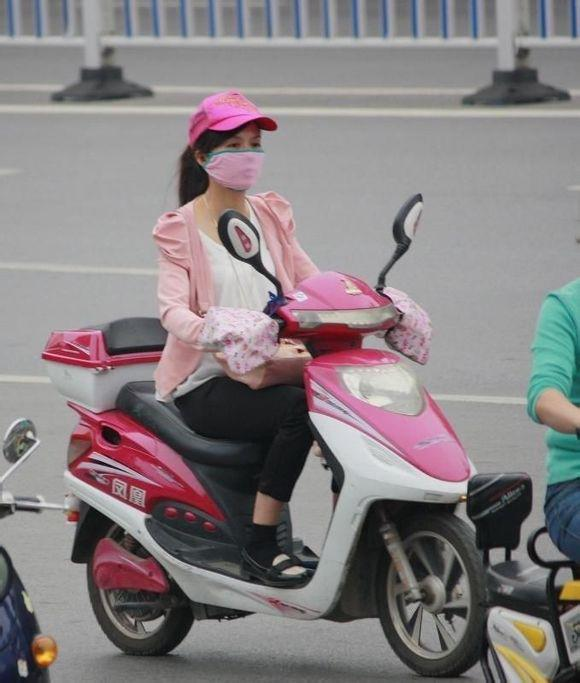OK: (203, 131, 263, 191)
